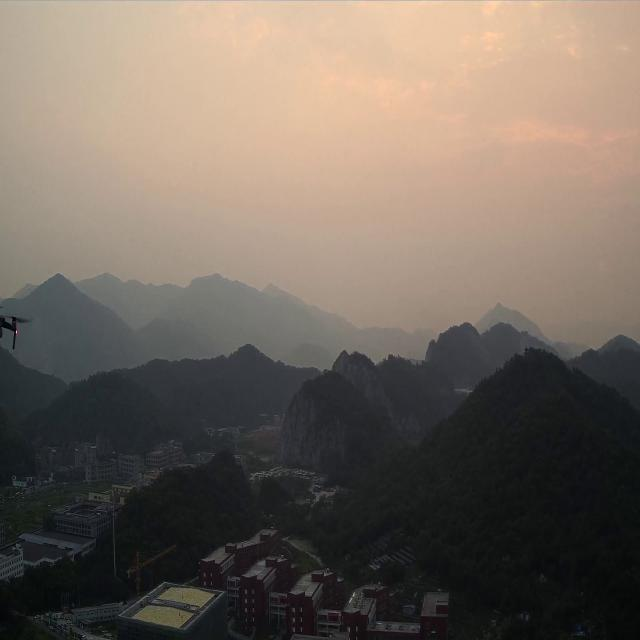UAV: (0, 304, 34, 354)
